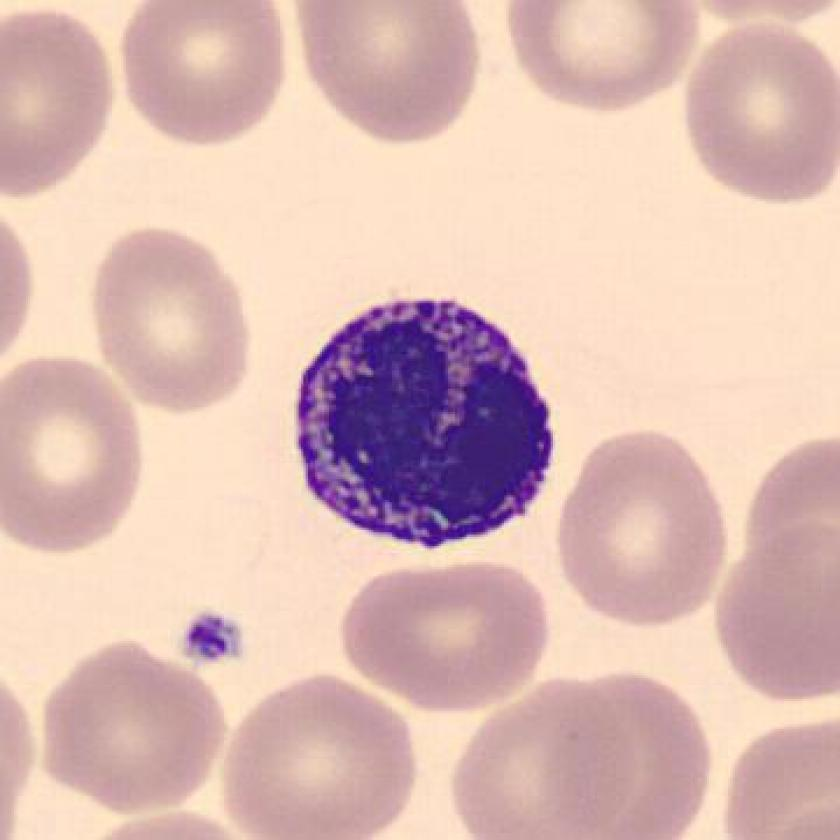basophil: (293, 295, 554, 554)
